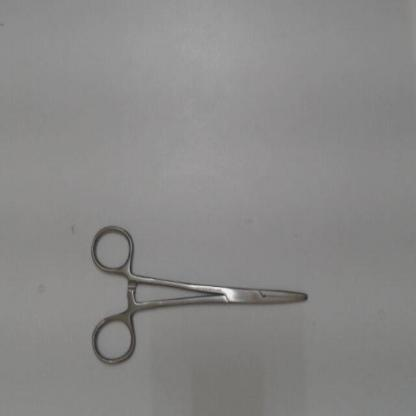Mayo Needle Holder: (82, 216, 317, 374)
